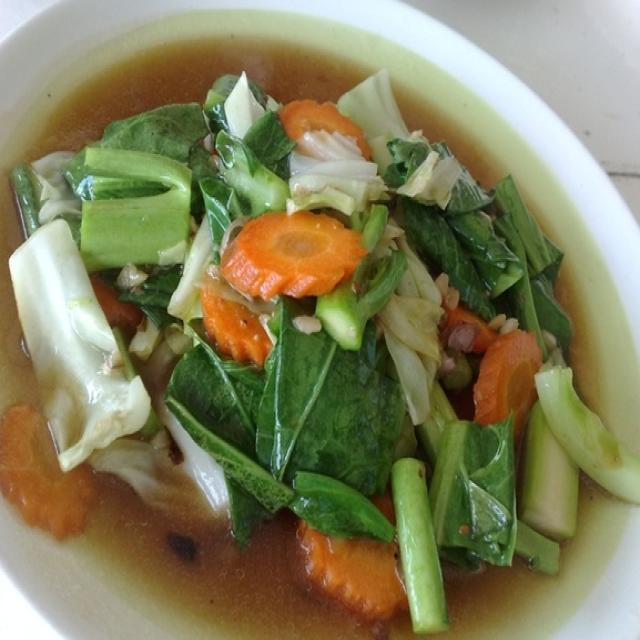蔬菜料理: (8, 37, 616, 613)
